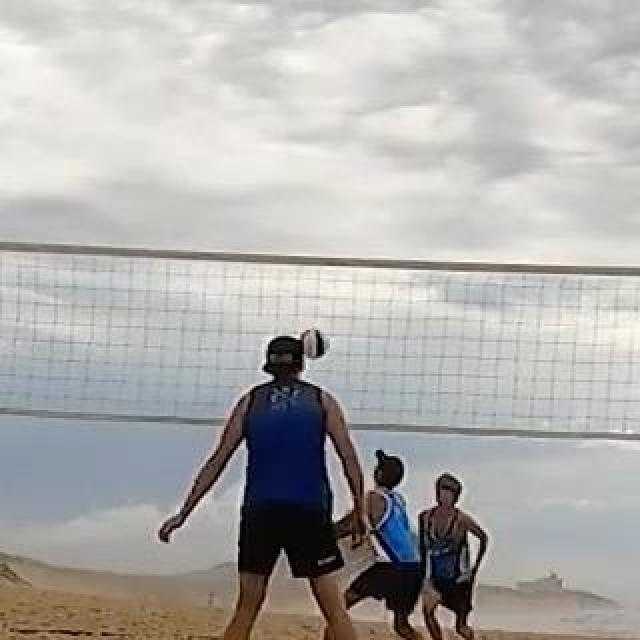volleyball: (300, 329, 328, 359)
